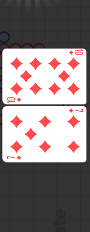10D: (5, 97, 22, 104)
7D: (6, 155, 22, 161)
